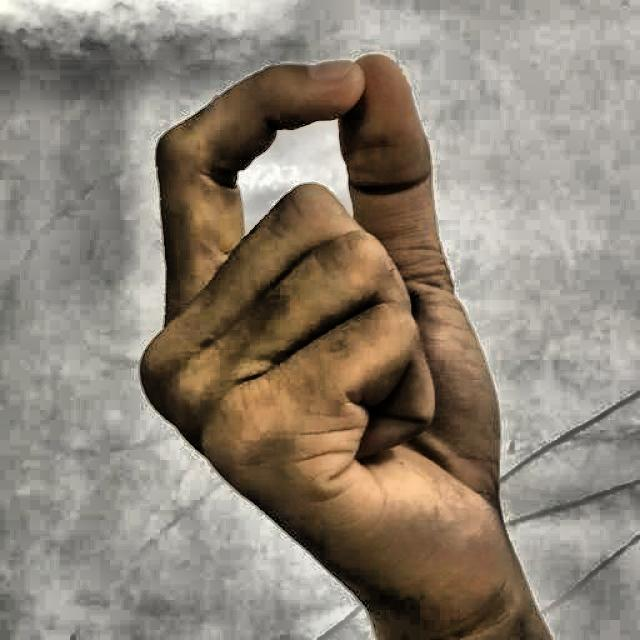Gha: (101, 28, 574, 640)
